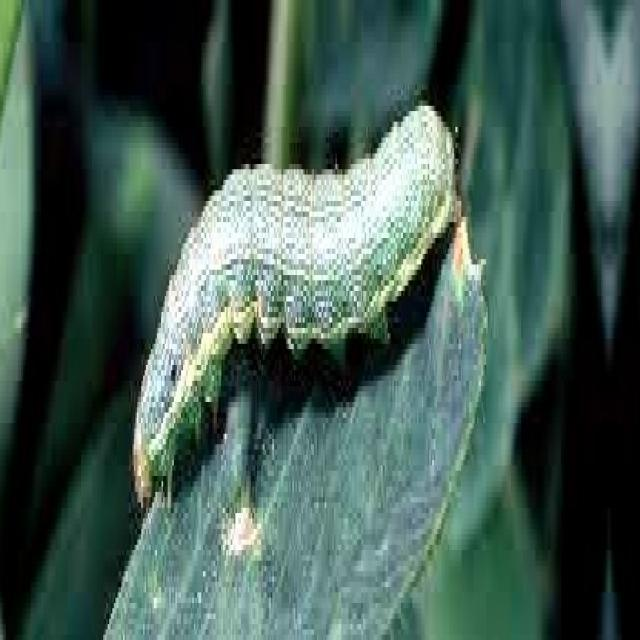Armyworm: (109, 58, 469, 521)
